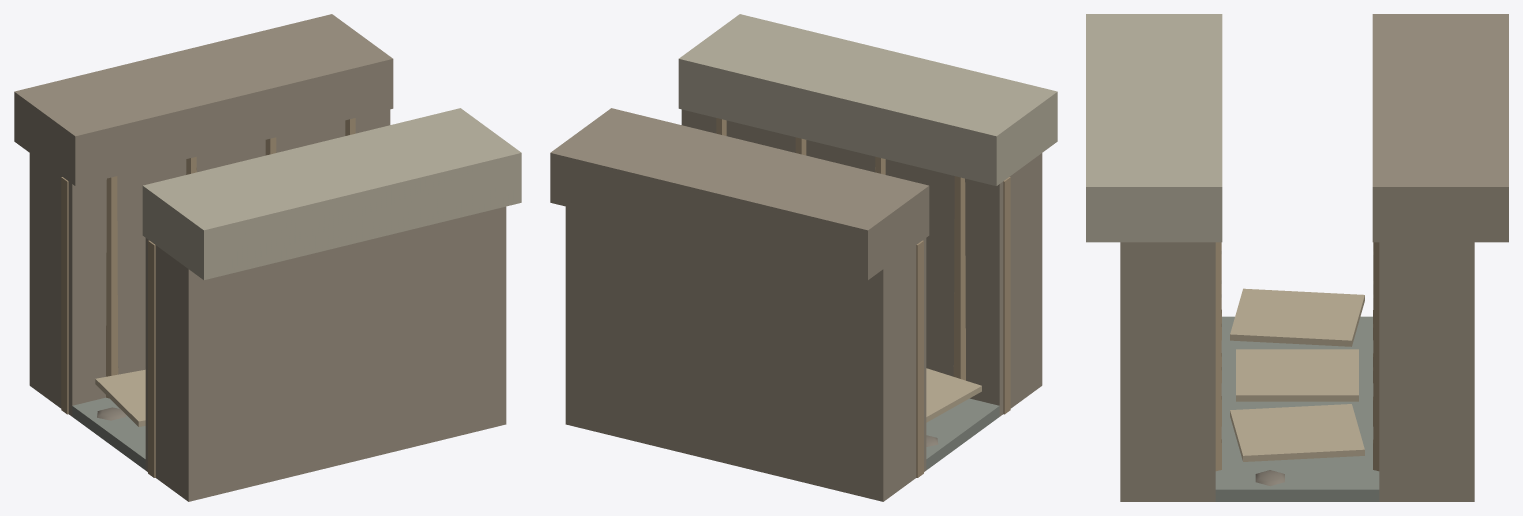
The model's file is trench-line-1917-flooded-bay-141e7ce5__24061.glb.
3 renders of one model, left to right at view 1: azimuth 30°, elevation 25°; view 2: azimuth 150°, elevation 25°; view 3: azimuth 270°, elevation 25°, orthographic. The views are drawn at different scales.
Parts seen in each view (by area): view 1: flooded-bay; view 2: flooded-bay; view 3: flooded-bay.
Boxes of the visible parts, x1,y1,x2,y2 form: flooded-bay: [14, 14, 521, 501]; flooded-bay: [550, 14, 1057, 501]; flooded-bay: [1086, 14, 1508, 501].
Size of the model in its own units: 3.01 by 2.55 by 3.1.
